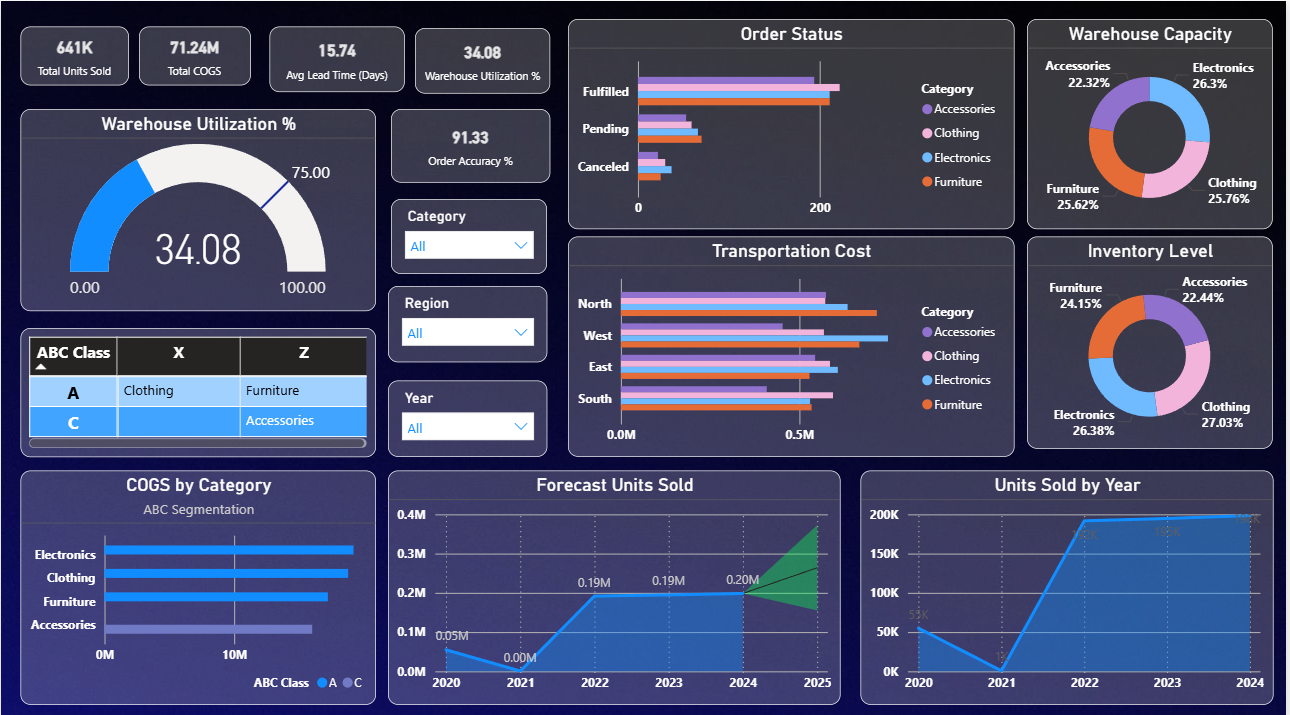

The page's visual inventory and layout, read from the dashboard file:
{"tool":"powerbi","page":{"name":"Page 1","canvas":[1280,720],"ordinal":0},"visuals":[{"type":"pivotTable","title":"ABC_XYZ_ANALYSIS","fields":{"Rows":["ABC_XYZ_Combined.ABC Class"],"Columns":["ABC_XYZ_Combined.XYZ Class"],"Values":["Min(ABC_XYZ_Combined.Category)"]},"box":[19,325.4,354,128.6],"z":0},{"type":"card","fields":{"Values":["Sum(Inventory_SupplyChain_Dataset.Units Sold)"]},"box":[19,25.4,107.9,58.7],"z":1000},{"type":"card","fields":{"Values":["Sum(Inventory_SupplyChain_Dataset.Cost of Goods Sold (COGS))"]},"box":[138.1,25.4,111.1,58.7],"z":2000},{"type":"card","fields":{"Values":["Avg(Inventory_SupplyChain_Dataset.Lead Time (Days))"]},"box":[266.7,25.4,134.9,65.1],"z":3000},{"type":"card","fields":{"Values":["ABC_XYZ_Combined.Order Accuracy %"]},"box":[388.9,107.9,158.7,73],"z":4000},{"type":"clusteredBarChart","title":"COGS by Category ","fields":{"Category":["Inventory_SupplyChain_Dataset.Category"],"Series":["ABC_XYZ_Combined.ABC Class"],"Y":["Sum(Inventory_SupplyChain_Dataset.Cost of Goods Sold (COGS))"]},"box":[19,468.3,354,233.3],"z":5000},{"type":"lineChart","title":"Forecast Units Sold","fields":{"Category":["Inventory_SupplyChain_Dataset.Date.Variation.Date Hierarchy.Year","Inventory_SupplyChain_Dataset.Date.Variation.Date Hierarchy.Month"],"Y":["Sum(Inventory_SupplyChain_Dataset.Units Sold)"]},"box":[385.7,468.3,450.8,233.3],"z":6000},{"type":"donutChart","title":"Inventory Level","fields":{"Y":["Sum(Inventory_SupplyChain_Dataset.Inventory Level)"],"Category":["Inventory_SupplyChain_Dataset.Category"]},"box":[1022.2,234.9,244.4,211.1],"z":7000},{"type":"donutChart","title":"Warehouse Capacity","fields":{"Y":["Sum(Inventory_SupplyChain_Dataset.Warehouse Capacity)"],"Category":["Inventory_SupplyChain_Dataset.Category"]},"box":[1022.2,17.5,244.4,209.5],"z":8000},{"type":"clusteredBarChart","title":"Order Status","fields":{"Y":["CountNonNull(Inventory_SupplyChain_Dataset.Order Status)"],"Series":["Inventory_SupplyChain_Dataset.Category"],"Category":["Inventory_SupplyChain_Dataset.Order Status"]},"box":[565.1,17.5,444.4,209.5],"z":9000},{"type":"clusteredBarChart","title":"Transportation Cost ","fields":{"Category":["Inventory_SupplyChain_Dataset.Region"],"Series":["Inventory_SupplyChain_Dataset.Category"],"Y":["Sum(Inventory_SupplyChain_Dataset.Transportation Cost)"]},"box":[565.1,234.9,444.4,219],"z":10000},{"type":"lineChart","title":"Units Sold by Year","fields":{"Category":["Inventory_SupplyChain_Dataset.Date.Variation.Date Hierarchy.Year","Inventory_SupplyChain_Dataset.Date.Variation.Date Hierarchy.Quarter","Inventory_SupplyChain_Dataset.Date.Variation.Date Hierarchy.Month","Inventory_SupplyChain_Dataset.Date.Variation.Date Hierarchy.Day"],"Y":["Sum(Inventory_SupplyChain_Dataset.Units Sold)"]},"box":[855.6,468.3,411.1,233.3],"z":11000},{"type":"slicer","fields":{"Values":["Inventory_SupplyChain_Dataset.Region"]},"box":[385.7,284.1,158.7,76.2],"z":12000},{"type":"slicer","fields":{"Values":["Inventory_SupplyChain_Dataset.Category"]},"box":[388.9,196.8,155.6,74.6],"z":13000},{"type":"gauge","fields":{"Y":["ABC_XYZ_Combined.Warehouse Utilization %"]},"box":[19,107.9,354,201.6],"z":14000},{"type":"slicer","fields":{"Values":["Inventory_SupplyChain_Dataset.Date.Variation.Date Hierarchy.Year"]},"box":[385.7,377.8,158.7,76.2],"z":15000},{"type":"card","fields":{"Values":["ABC_XYZ_Combined.Warehouse Utilization %"]},"box":[412.7,27,134.9,65.1],"z":16000}]}

Visuals, with their boxes in screenshot pixels (x1, y1, x2, y2), scaled from the page's 1280x720 canvas onto the 1290x715 screenshot:
"ABC_XYZ_ANALYSIS" pivotTable: l=19, t=323, r=376, b=451
card - Sum(Inventory_SupplyChain_Dataset.Units Sold): l=19, t=25, r=128, b=84
card - Sum(Inventory_SupplyChain_Dataset.Cost of Goods Sold (COGS)): l=139, t=25, r=251, b=84
card - Avg(Inventory_SupplyChain_Dataset.Lead Time (Days)): l=269, t=25, r=405, b=90
card - ABC_XYZ_Combined.Order Accuracy %: l=392, t=107, r=552, b=180
"COGS by Category " clusteredBarChart: l=19, t=465, r=376, b=697
"Forecast Units Sold" lineChart: l=389, t=465, r=843, b=697
"Inventory Level" donutChart: l=1030, t=233, r=1276, b=443
"Warehouse Capacity" donutChart: l=1030, t=17, r=1276, b=225
"Order Status" clusteredBarChart: l=570, t=17, r=1017, b=225
"Transportation Cost " clusteredBarChart: l=570, t=233, r=1017, b=451
"Units Sold by Year" lineChart: l=862, t=465, r=1277, b=697
slicer - Inventory_SupplyChain_Dataset.Region: l=389, t=282, r=549, b=358
slicer - Inventory_SupplyChain_Dataset.Category: l=392, t=195, r=549, b=270
gauge - ABC_XYZ_Combined.Warehouse Utilization %: l=19, t=107, r=376, b=307
slicer - Inventory_SupplyChain_Dataset.Date.Variation.Date Hierarchy.Year: l=389, t=375, r=549, b=451
card - ABC_XYZ_Combined.Warehouse Utilization %: l=416, t=27, r=552, b=91
